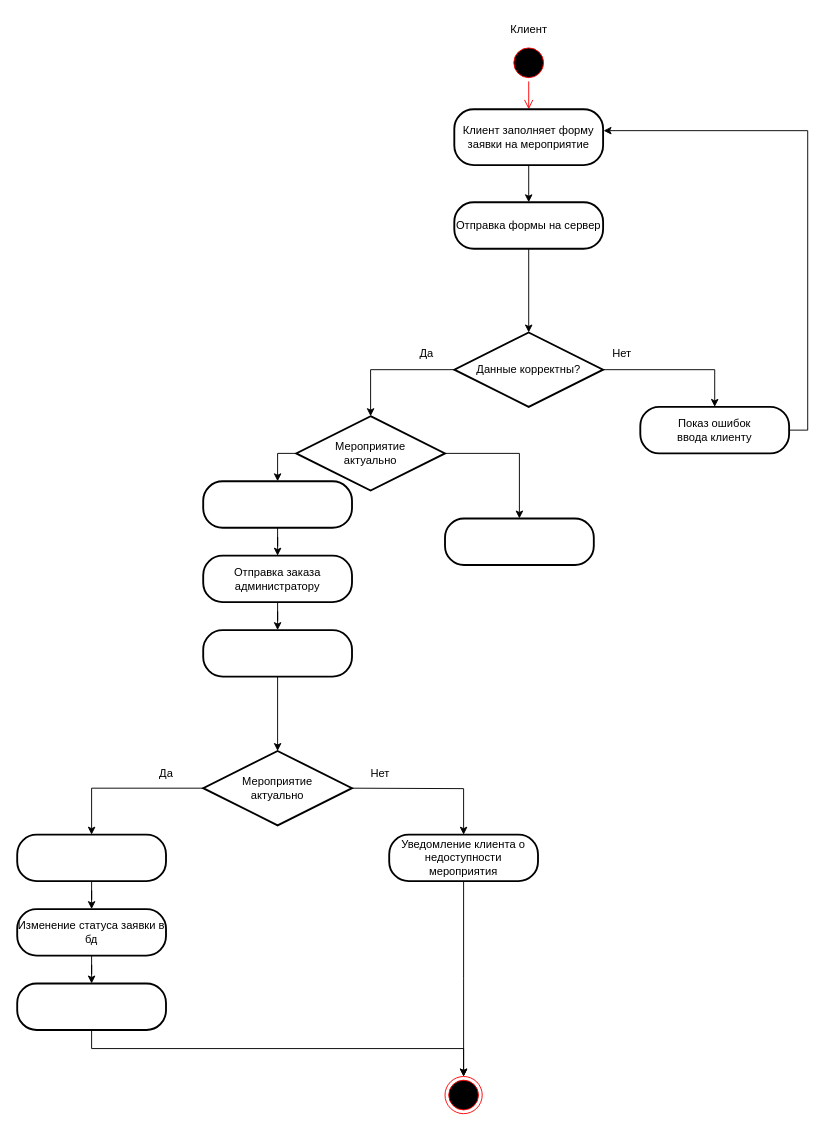
Image size: 831x1130. Some labels were removed from this diagram. The shapes that lost their labels are listed below. From the top down, each one's box as (x1, y1, x2, y2) in pixels, then its label:
(202, 480, 352, 528): Сохранение заявки в бд
(444, 517, 594, 565): Показ сообщения о недоступности мероприятия
(202, 629, 352, 677): Администратор созванивается с клиентом для подтверждения
(16, 833, 166, 882): Подтверждение заказа
(16, 982, 166, 1030): Уведомление клиента об успешном заказе
